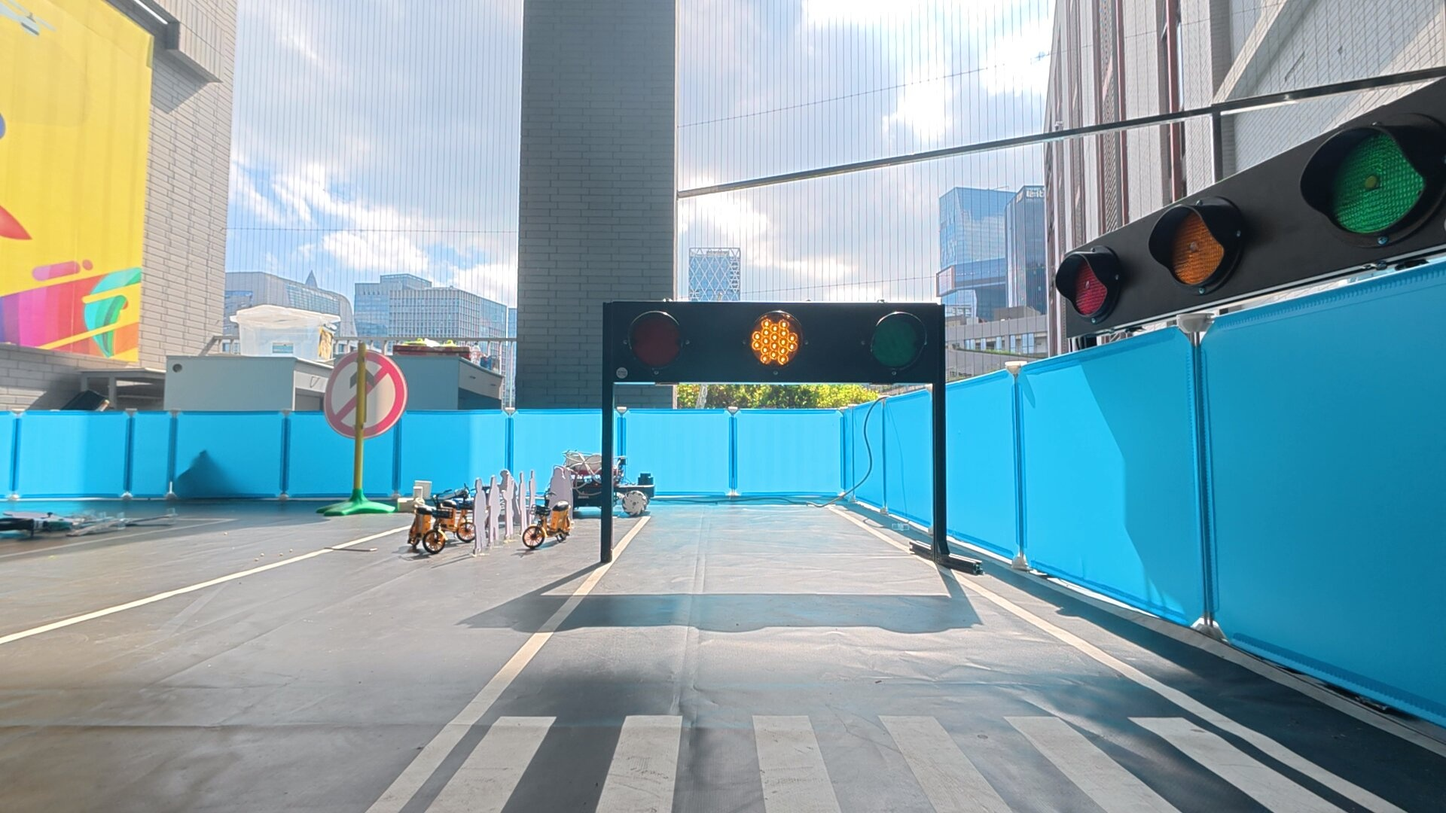stop: (749, 310, 803, 369)
